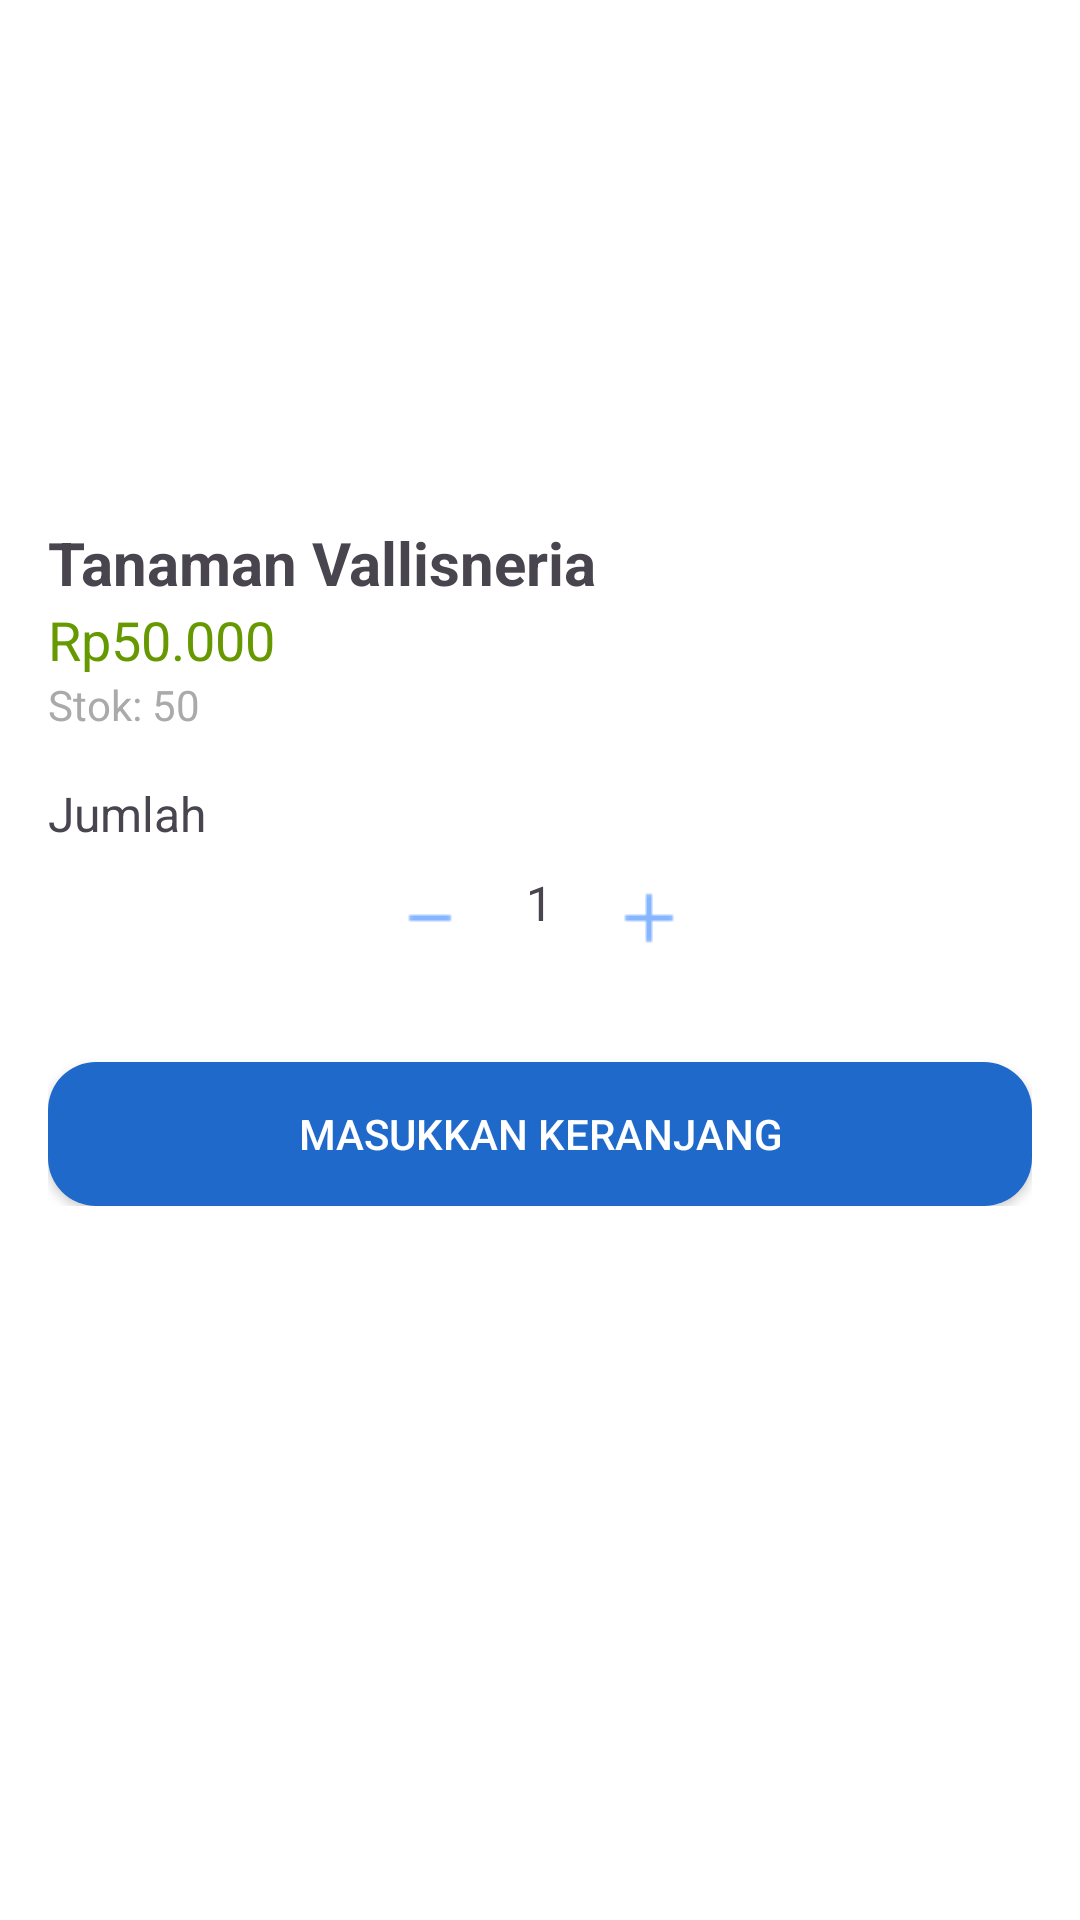

Locate icon controls on the screen. Image size 1080px×1920px, boxes as [left=x1, top=y1, right=x2, bottom=y2].
plus: [left=624, top=893, right=674, bottom=943]
